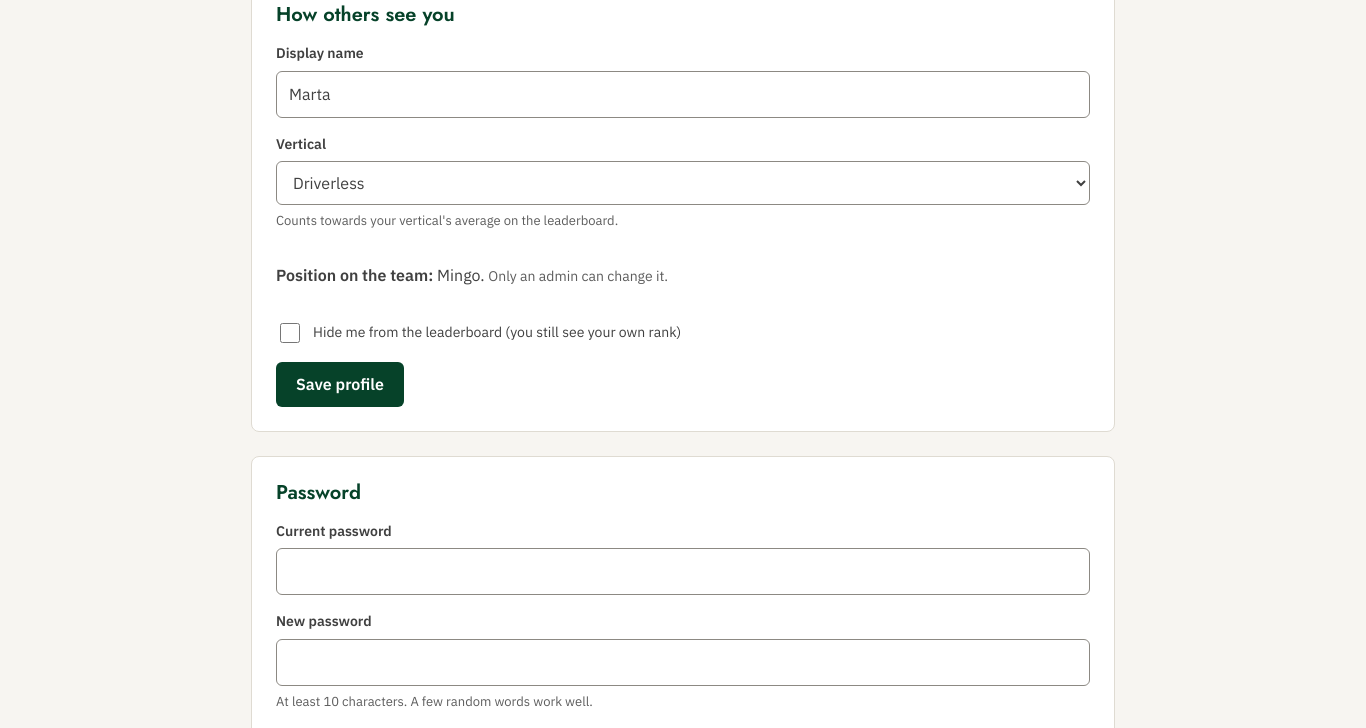
Test case: an API 401 while signed in means the session ended
The image size is (1366, 728).
(page scrolled)
Click the button "Save profile" at coordinates (340, 385), box [276, 362, 404, 407]
(page scrolled)
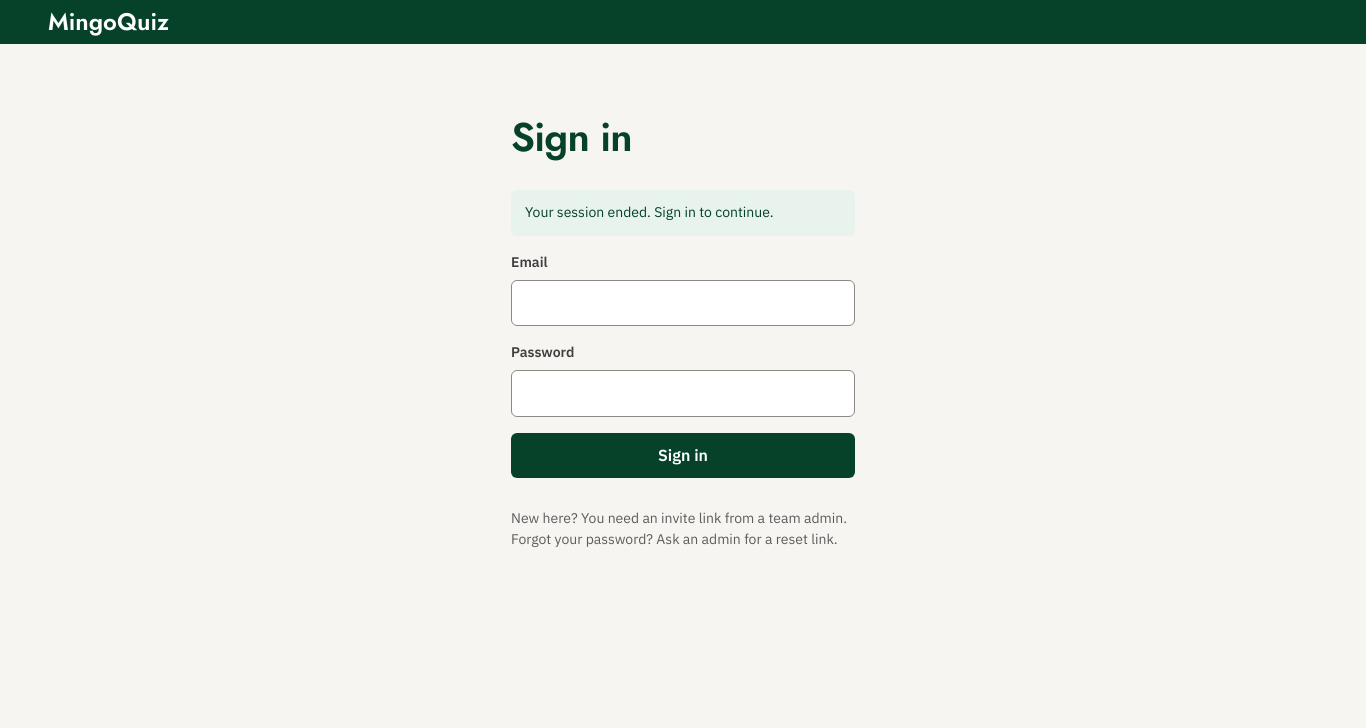
Check: the text "Your session ended. Sign in to continue." is shown, box [511, 190, 855, 236]
